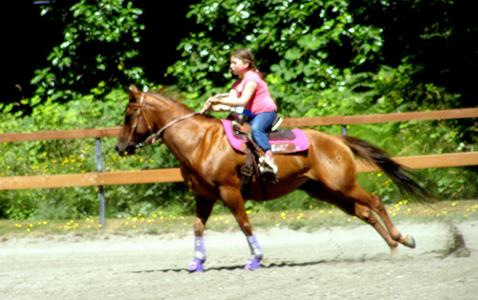person: (204, 49, 278, 170)
